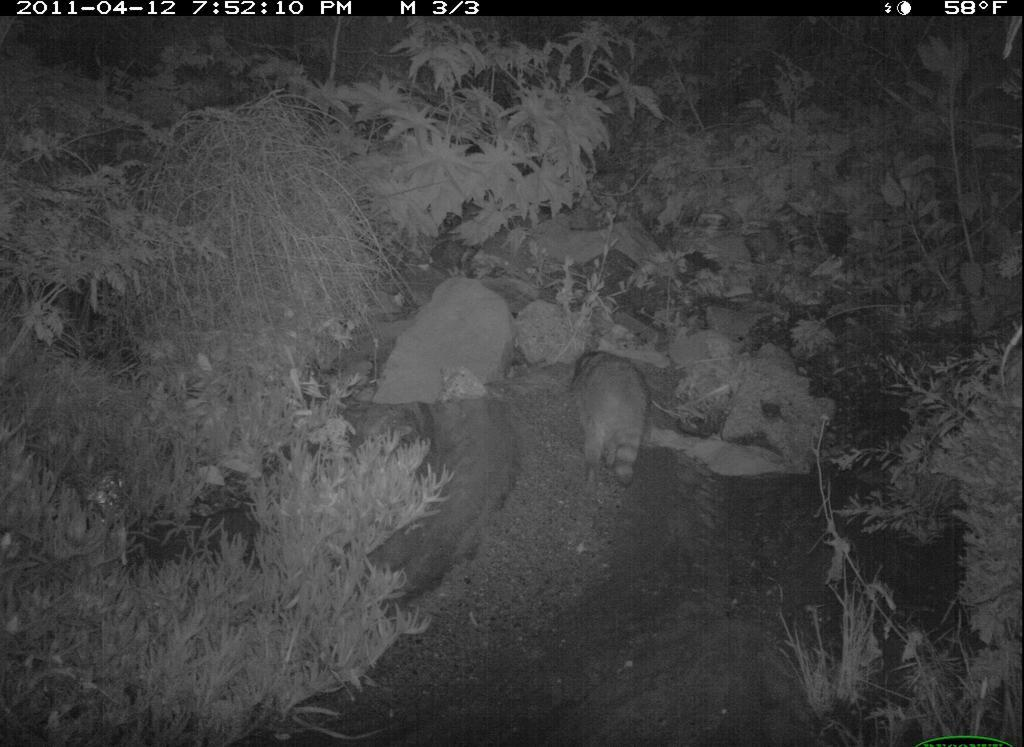raccoon: (557, 338, 653, 491)
